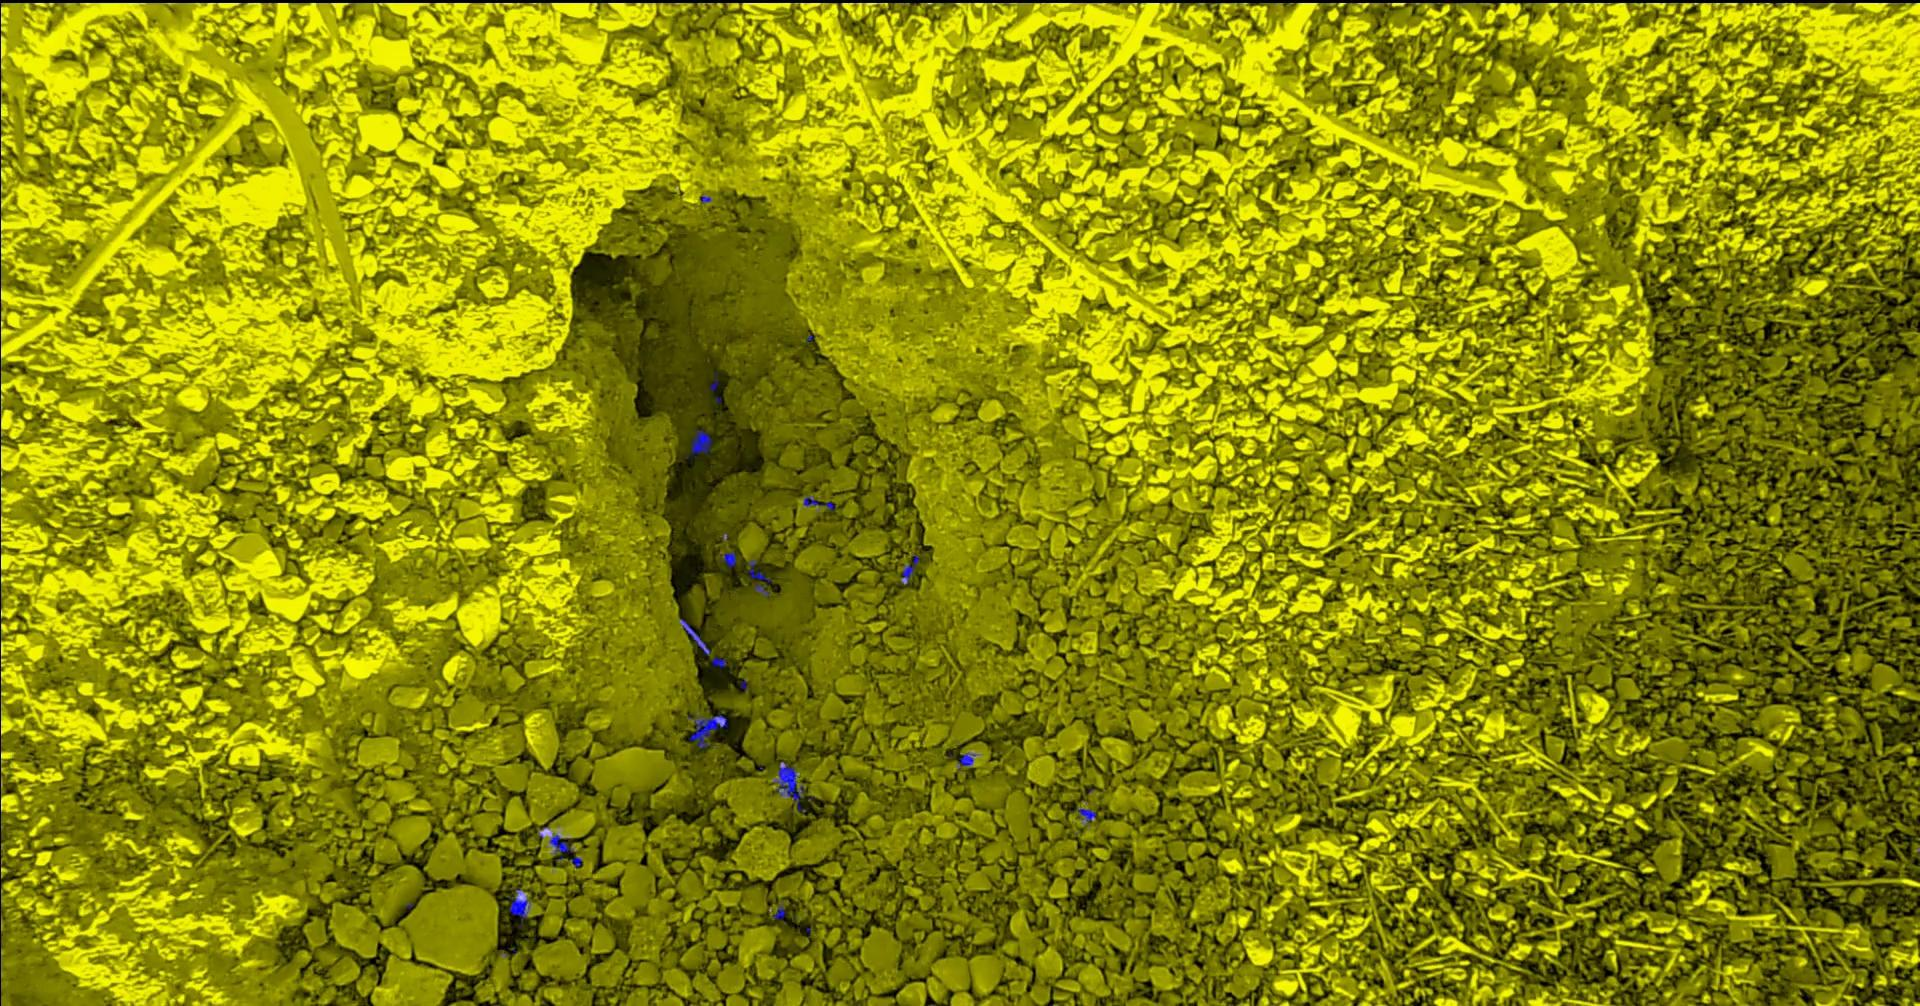ant: (775, 761, 813, 812), (686, 711, 728, 748), (679, 619, 710, 655), (507, 888, 530, 926), (686, 429, 711, 459), (549, 832, 574, 860), (900, 554, 918, 584), (747, 559, 770, 582), (803, 495, 833, 511), (1076, 807, 1096, 826), (956, 752, 975, 768), (719, 551, 735, 567), (771, 901, 783, 920), (753, 584, 770, 596), (711, 657, 725, 667)
